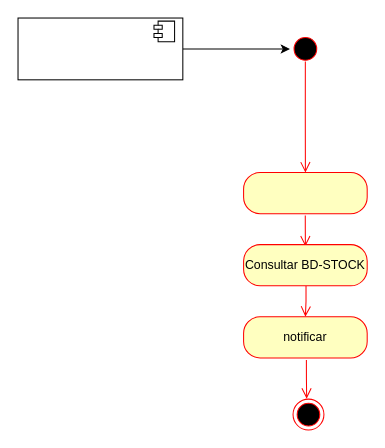
Image size: 385x448. Some labels were removed from this diagram. The box of each missing label's shape, as (x1, y1, x2, y2) in pixels:
Administrador: (17, 17, 183, 80)
Clic en Alertas de stock: (243, 171, 367, 214)
